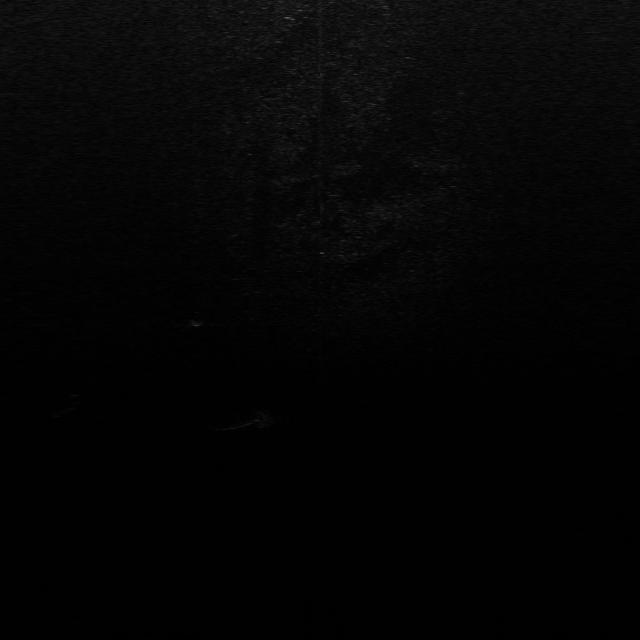ball: (247, 406, 278, 430)
circle cage: (178, 308, 211, 330)
tyre: (42, 393, 83, 419)
